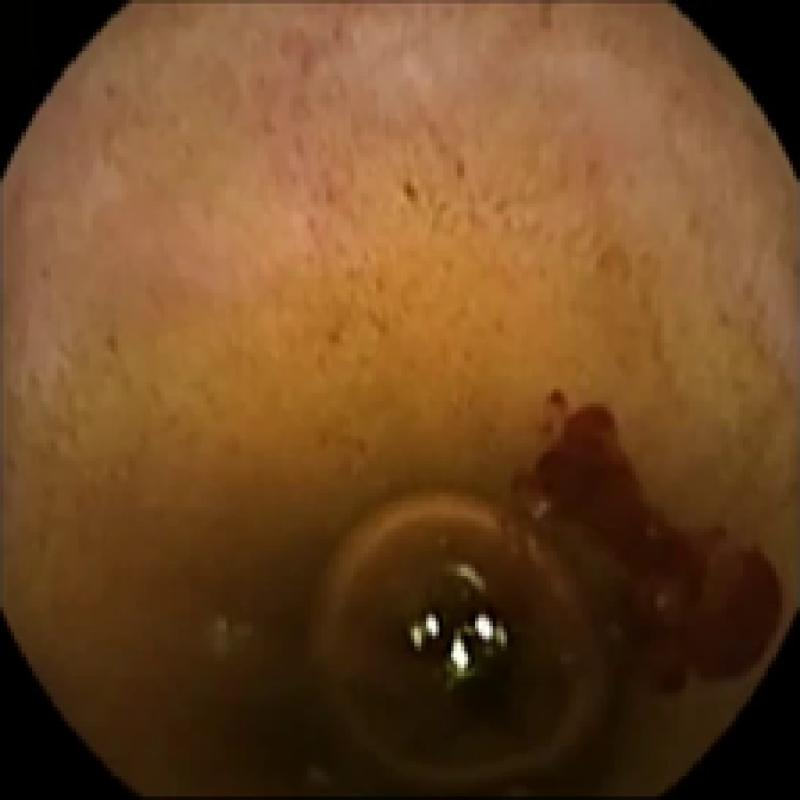bleeding: (511, 393, 786, 703)
